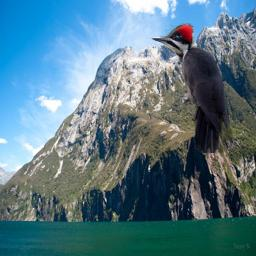Woodpecker: (150, 23, 233, 153)
